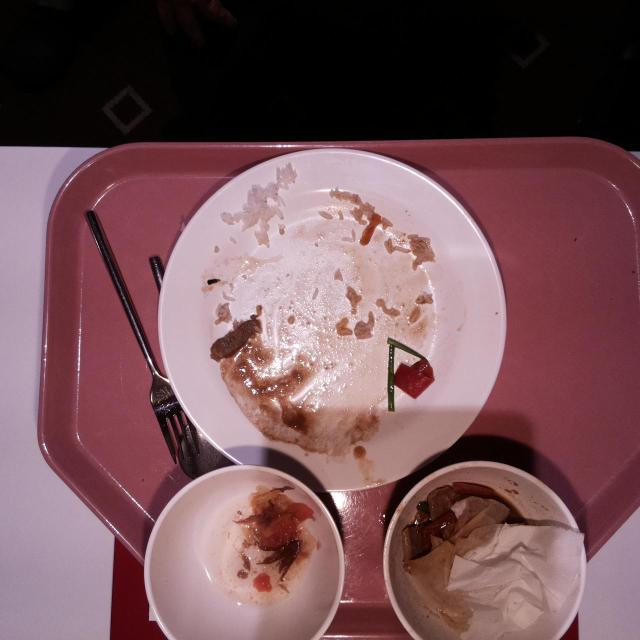Meat: (210, 317, 256, 361)
